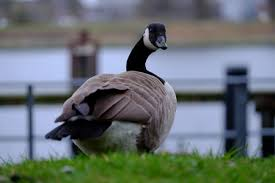goose: (40, 20, 186, 162)
